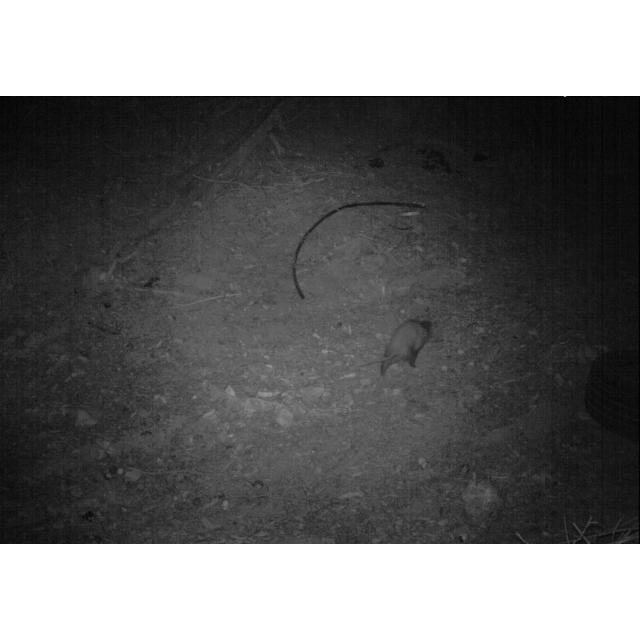animals: (382, 316, 436, 378)
